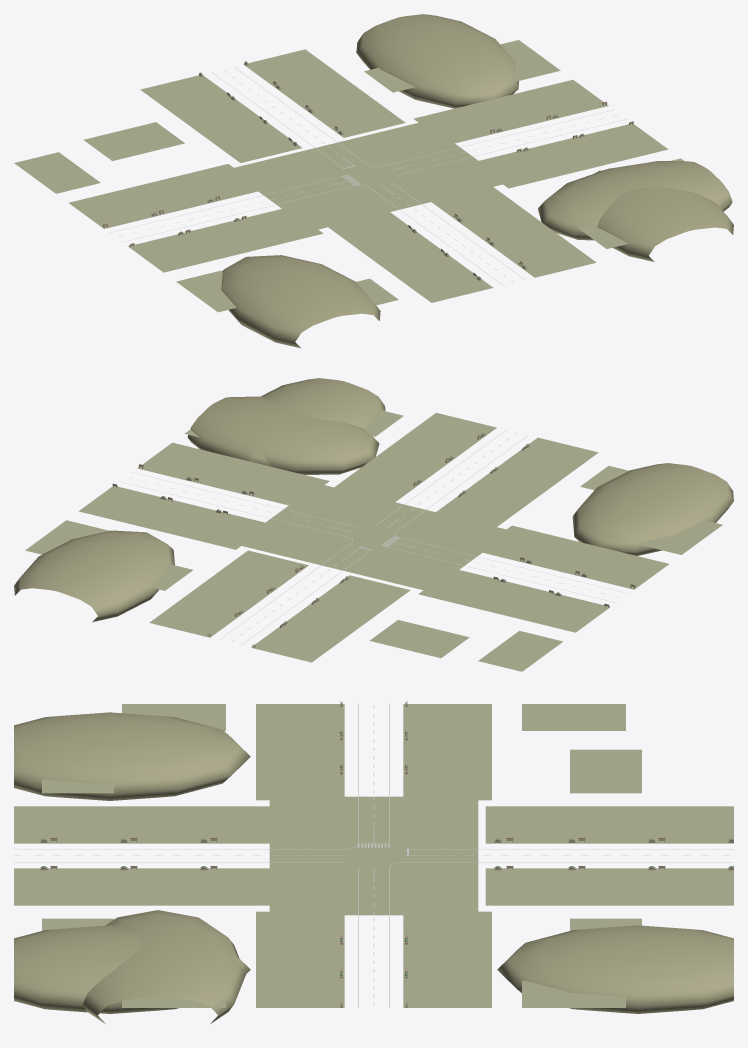
The picture shows the model from 3 angles, top to bottom: view 1: azimuth 30°, elevation 25°; view 2: azimuth 150°, elevation 25°; view 3: azimuth 270°, elevation 25°; orthographic projection. The views are drawn at different scales.
Parts seen in each view (by area): view 1: static; view 2: static; view 3: static.
Boxes of the visible parts, box(x1,y1,x2,y2) form: static: box(14, 14, 733, 348); static: box(14, 378, 733, 671); static: box(14, 700, 733, 1023).
Size of what is drawn, in the model's own units: 180 by 14.08 by 180.
